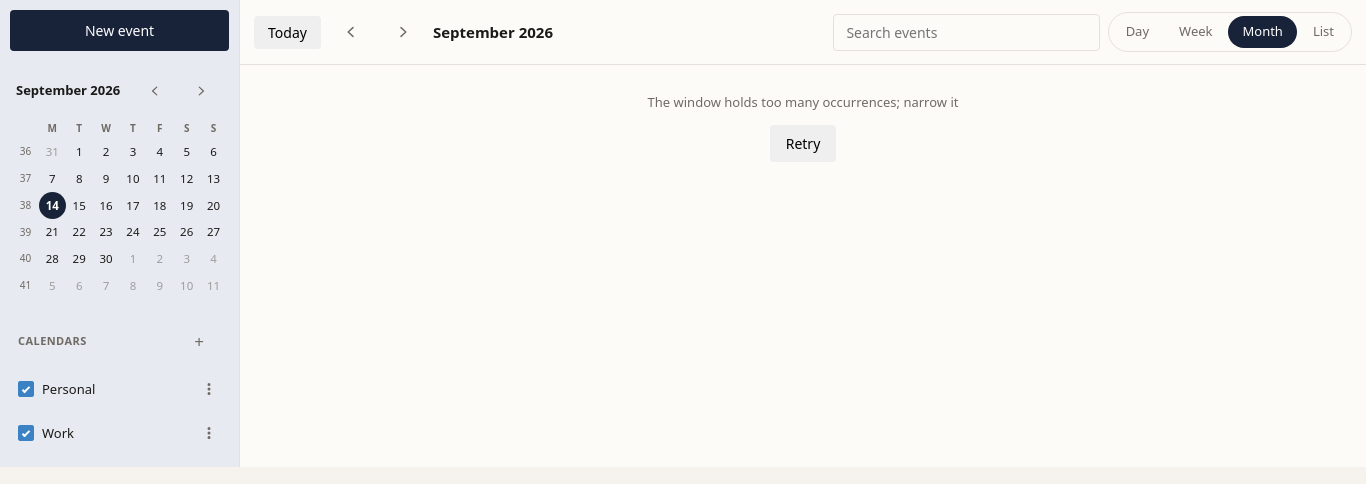
Test: CalendarLayout — navigating and loading › says a refused window out loud and retries it
Check: the text "The window holds too many occurrences; narrow it" is shown, box [648, 93, 958, 111]
Step 1. Click the button "Retry" → (803, 143), box [770, 124, 836, 162]
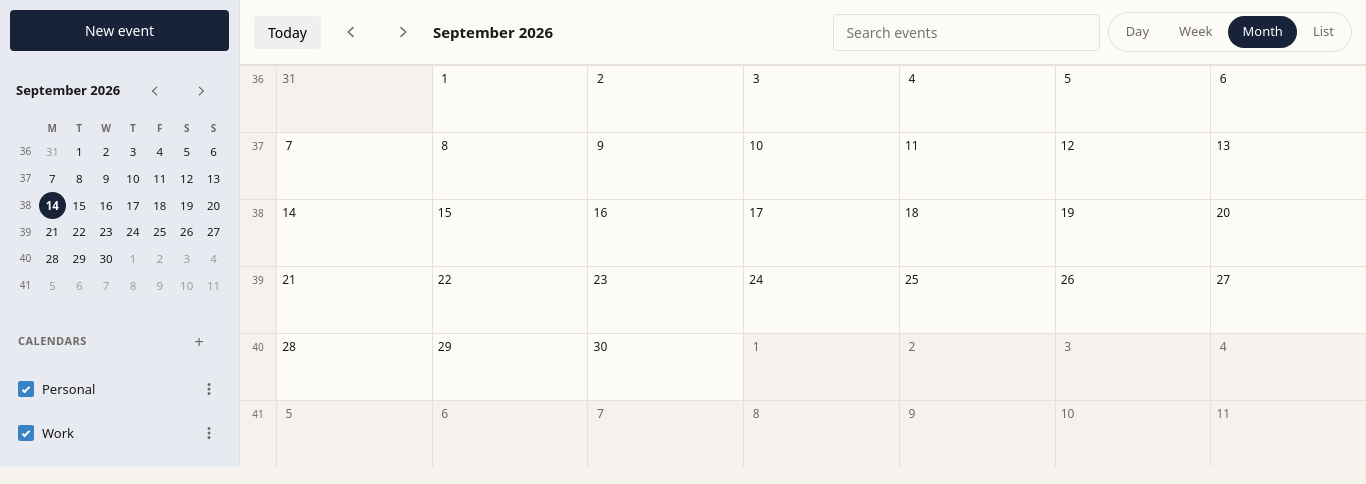
Check: the text "The window holds too many occurrences; narrow it" is gone
